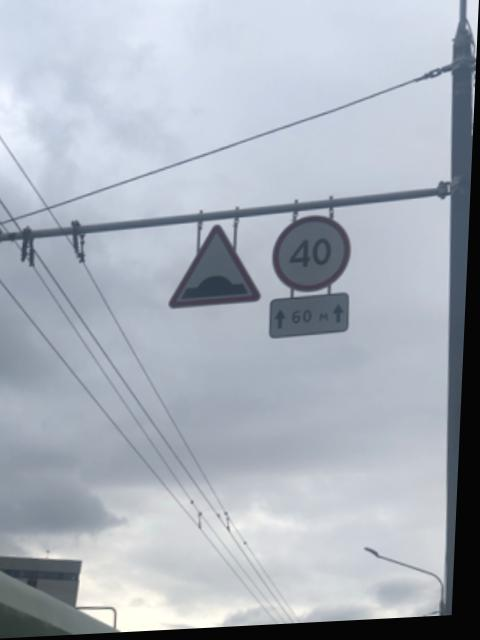limit40: (271, 214, 355, 300)
